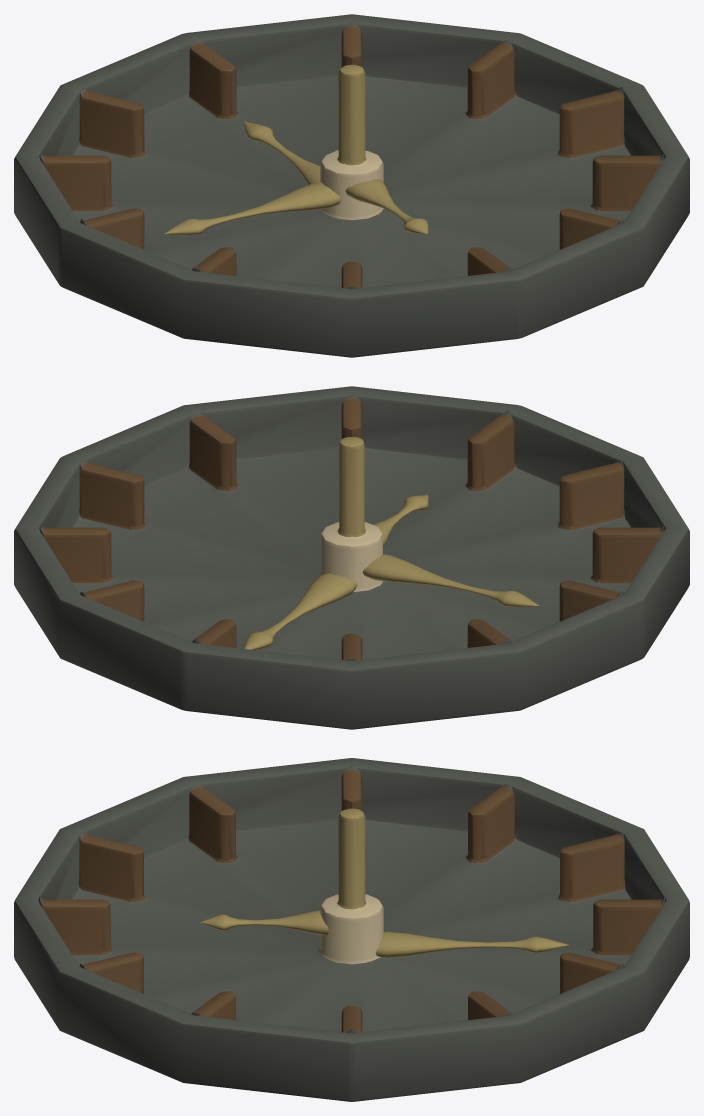
The model's file is CeilingClock.fbx.
The picture shows the model from 3 angles, top to bottom: view 1: azimuth 30°, elevation 25°; view 2: azimuth 150°, elevation 25°; view 3: azimuth 270°, elevation 25°; orthographic projection.
Parts seen in each view (by area): view 1: Cylinder, BézierCurve.002, BézierCurve.001, BézierCurve; view 2: Cylinder, BézierCurve.002, BézierCurve, BézierCurve.001; view 3: Cylinder, BézierCurve, BézierCurve.001.
Boxes of the visible parts, box(x1,y1,x2,y2) form: Cylinder: box(14, 14, 689, 357); BézierCurve.002: box(164, 182, 341, 234); BézierCurve.001: box(345, 179, 428, 234); BézierCurve: box(243, 121, 320, 184); Cylinder: box(14, 386, 689, 729); BézierCurve.002: box(362, 554, 539, 606); BézierCurve: box(244, 573, 356, 649); BézierCurve.001: box(373, 495, 428, 546); Cylinder: box(14, 758, 689, 1101); BézierCurve: box(375, 931, 568, 957); BézierCurve.001: box(200, 910, 328, 935).
Bounding box in the file's own units: 19.96 × 4.83 × 19.96.
